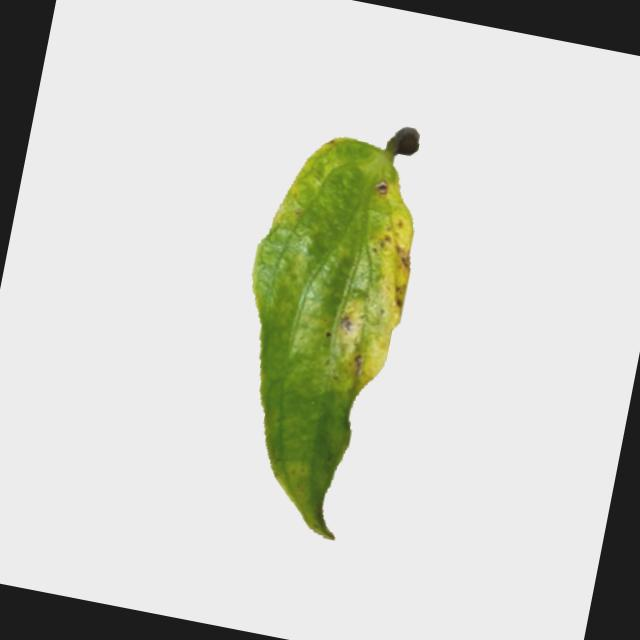yellow-mottle-virus: (182, 97, 444, 546)
